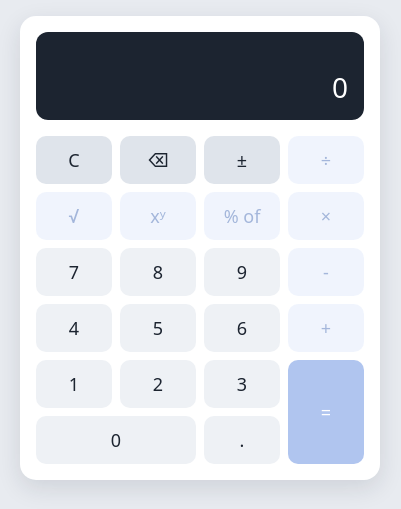
Test: Calculator keypad › shows the result of 10 ÷ 2 clicked on the keypad
Click the button "1" at (74, 384), box [36, 360, 112, 408]
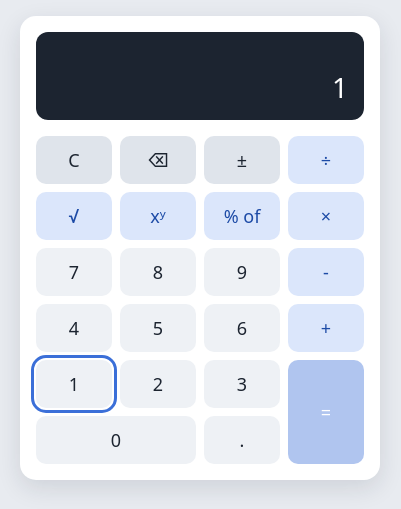
Click the button "0" at (116, 440), box [36, 416, 196, 464]
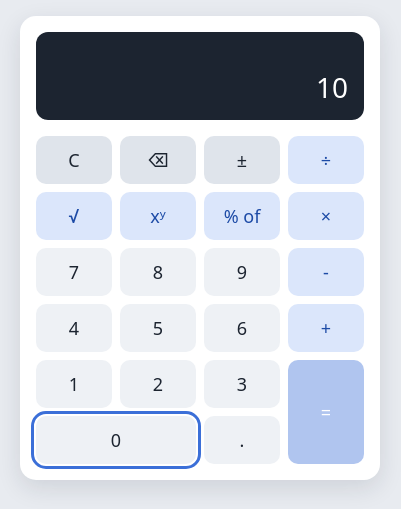
Click the button named "Divide" at (326, 160), box [288, 136, 364, 184]
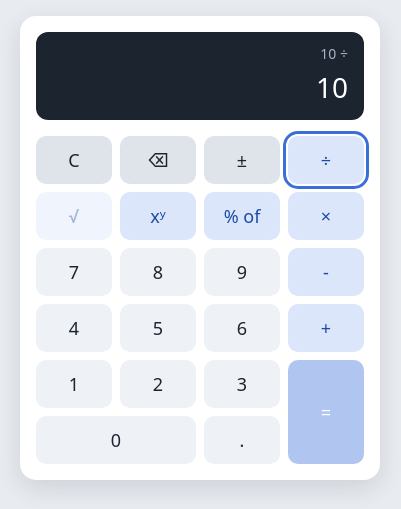
Click the button "2" at (158, 384), box [120, 360, 196, 408]
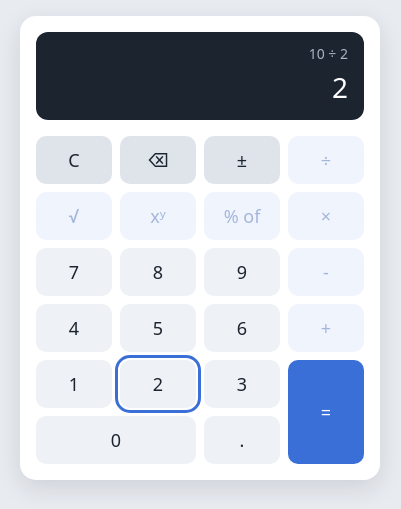
Click the button named "Equals" at (326, 412), box [288, 360, 364, 464]
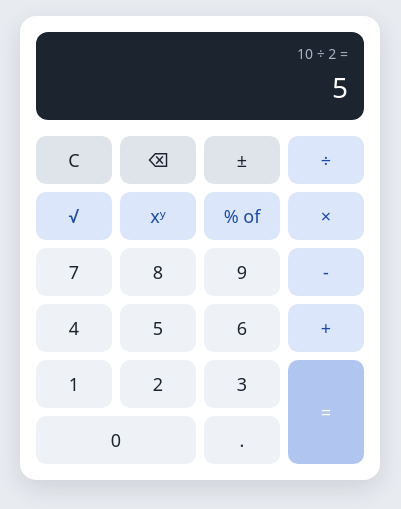
Expected: the text "10 ÷ 2 =" is shown, [297, 44, 348, 63]
